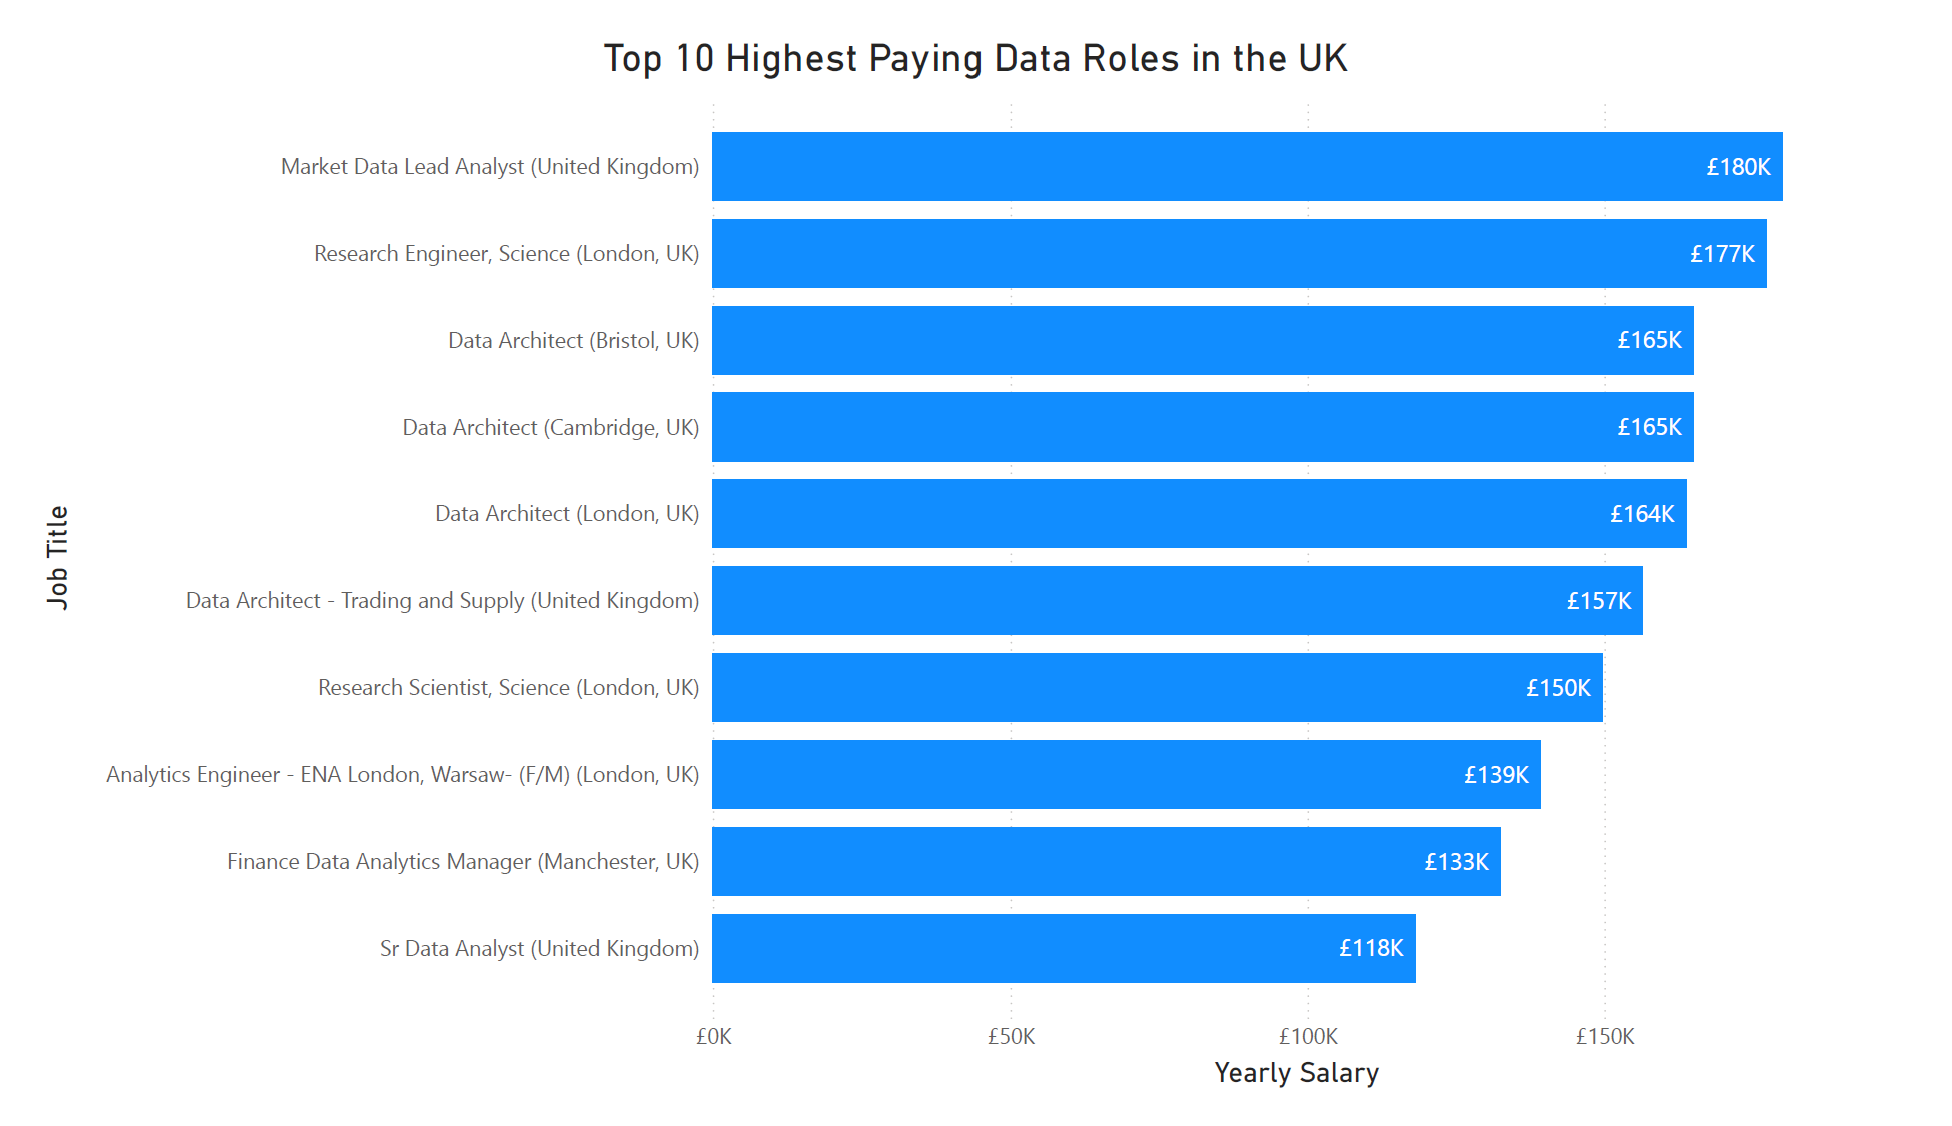

The dashboard page shown, as its layout file describes it:
{"tool":"powerbi","page":{"name":"Top Paying Jobs","canvas":[1280,720],"ordinal":0},"visuals":[{"type":"clusteredBarChart","title":"Top 10 Highest Paying Data Roles in the UK","fields":{"Category":["top_paying_jobs.JobKey"],"Y":["Sum(top_paying_jobs.salary_year_avg)"]},"box":[0,0,1280,720],"z":0}]}

Visuals, with their boxes in screenshot pixels (x1, y1, x2, y2), scaled from the page's 1280x720 canvas onto the 1952x1126 screenshot:
"Top 10 Highest Paying Data Roles in the UK" clusteredBarChart: bbox=[0, 0, 1951, 1125]
